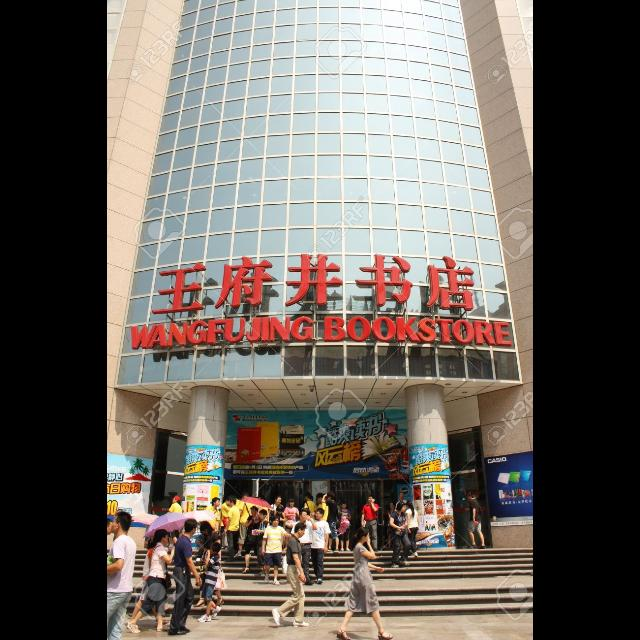head: (111, 512, 133, 534), (154, 529, 170, 545), (294, 523, 308, 539), (357, 527, 371, 543), (185, 520, 198, 536), (200, 522, 212, 536), (156, 530, 168, 542), (210, 542, 222, 554), (397, 501, 408, 513), (259, 508, 269, 520), (299, 510, 309, 522), (315, 508, 325, 520), (228, 496, 238, 506), (326, 492, 336, 502), (272, 516, 280, 528), (212, 498, 220, 508), (225, 496, 233, 506), (241, 492, 249, 502), (251, 506, 259, 516), (288, 498, 296, 508), (468, 491, 476, 501), (173, 496, 181, 504), (368, 496, 376, 504), (406, 501, 414, 509), (342, 502, 348, 508), (390, 502, 396, 508)
person: (125, 528, 177, 636), (126, 531, 172, 635), (166, 517, 204, 637), (270, 522, 310, 628), (193, 520, 229, 610), (260, 516, 294, 586), (289, 509, 319, 587), (196, 542, 224, 624), (307, 506, 333, 586), (195, 496, 223, 564), (320, 490, 348, 554), (234, 492, 260, 560), (240, 506, 266, 574), (388, 501, 414, 569), (250, 509, 272, 577), (162, 495, 186, 555), (465, 490, 487, 550), (223, 495, 241, 563), (361, 494, 381, 554), (281, 497, 301, 553), (220, 494, 237, 552), (406, 499, 422, 558), (337, 500, 353, 554), (386, 500, 402, 552)
